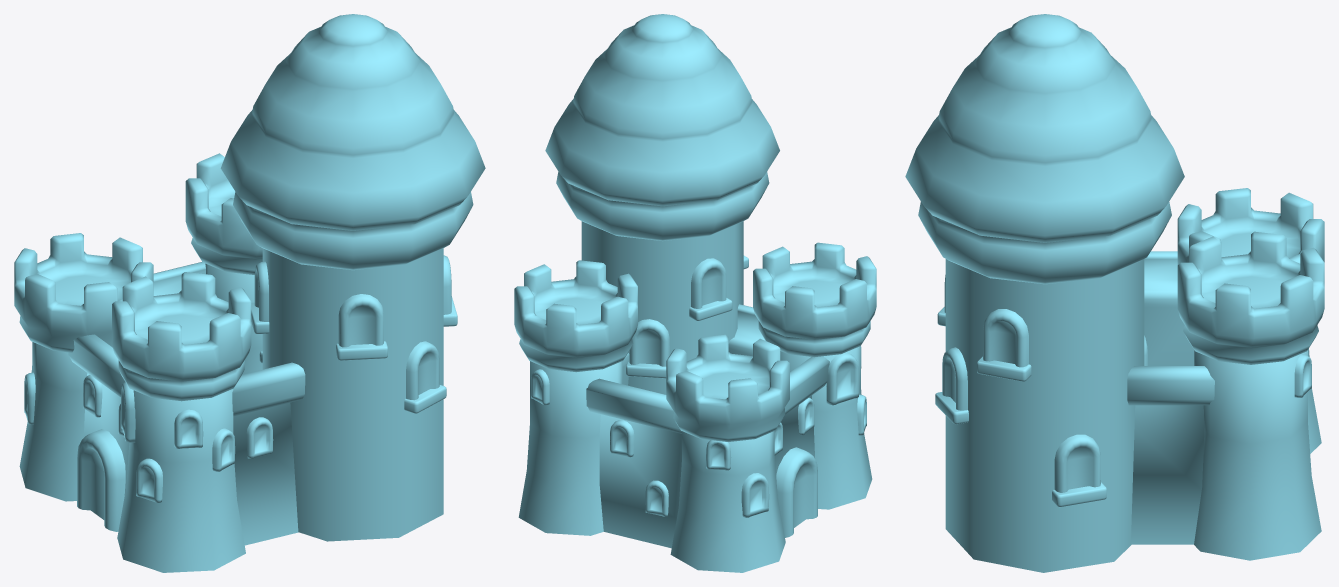
File: castle_mellow.fbx
3 renders of one model, left to right at view 1: azimuth 30°, elevation 25°; view 2: azimuth 150°, elevation 25°; view 3: azimuth 270°, elevation 25°, orthographic. The views are drawn at different scales.
Visible parts, largest first — view 1: castle_mellow; view 2: castle_mellow; view 3: castle_mellow.
Boxes of the visible parts, bbox=[...] form: castle_mellow: bbox=[14, 14, 485, 572]; castle_mellow: bbox=[514, 14, 876, 572]; castle_mellow: bbox=[905, 14, 1324, 572].
Bounding box in the file's own units: 3932 × 5285 × 3905.
